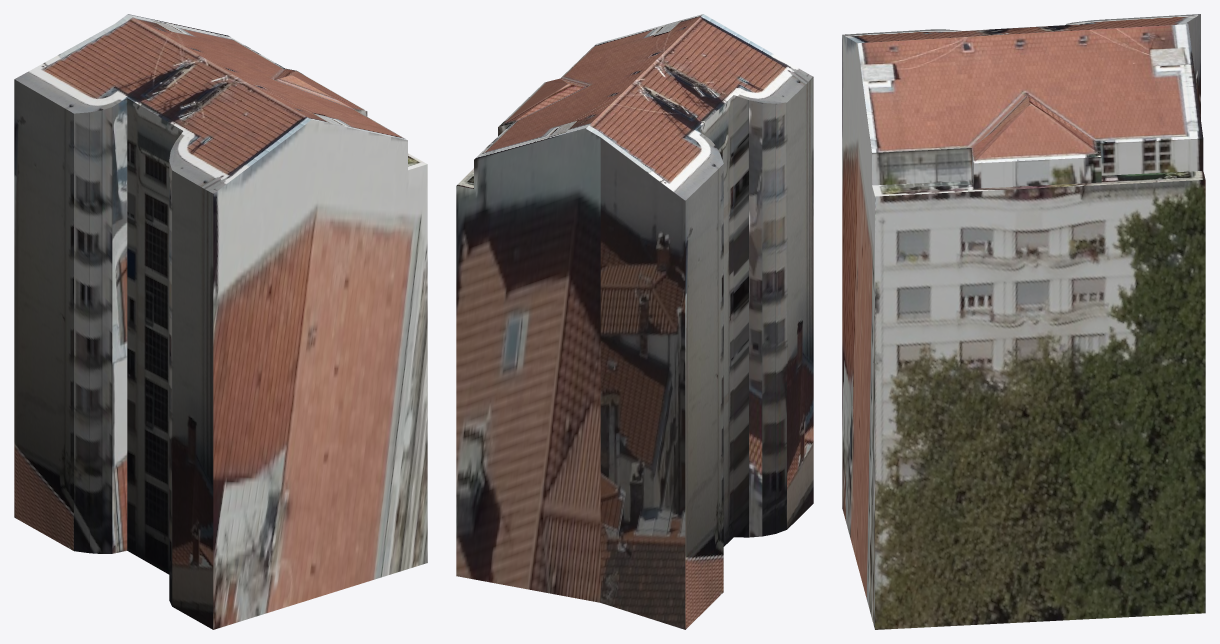
The picture shows the model from 3 angles, left to right: view 1: azimuth 30°, elevation 25°; view 2: azimuth 150°, elevation 25°; view 3: azimuth 270°, elevation 25°; orthographic projection. The views are drawn at different scales.
Visible parts, largest first — view 1: Z_UP; view 2: Z_UP; view 3: Z_UP.
Part boxes in pixels (x1,y1,x2,y2): Z_UP: (14, 14, 427, 629); Z_UP: (456, 14, 813, 629); Z_UP: (842, 14, 1205, 629).
Bounding box in the file's own units: 18.13 × 31.68 × 19.93.
2 materials, 1 textured.
